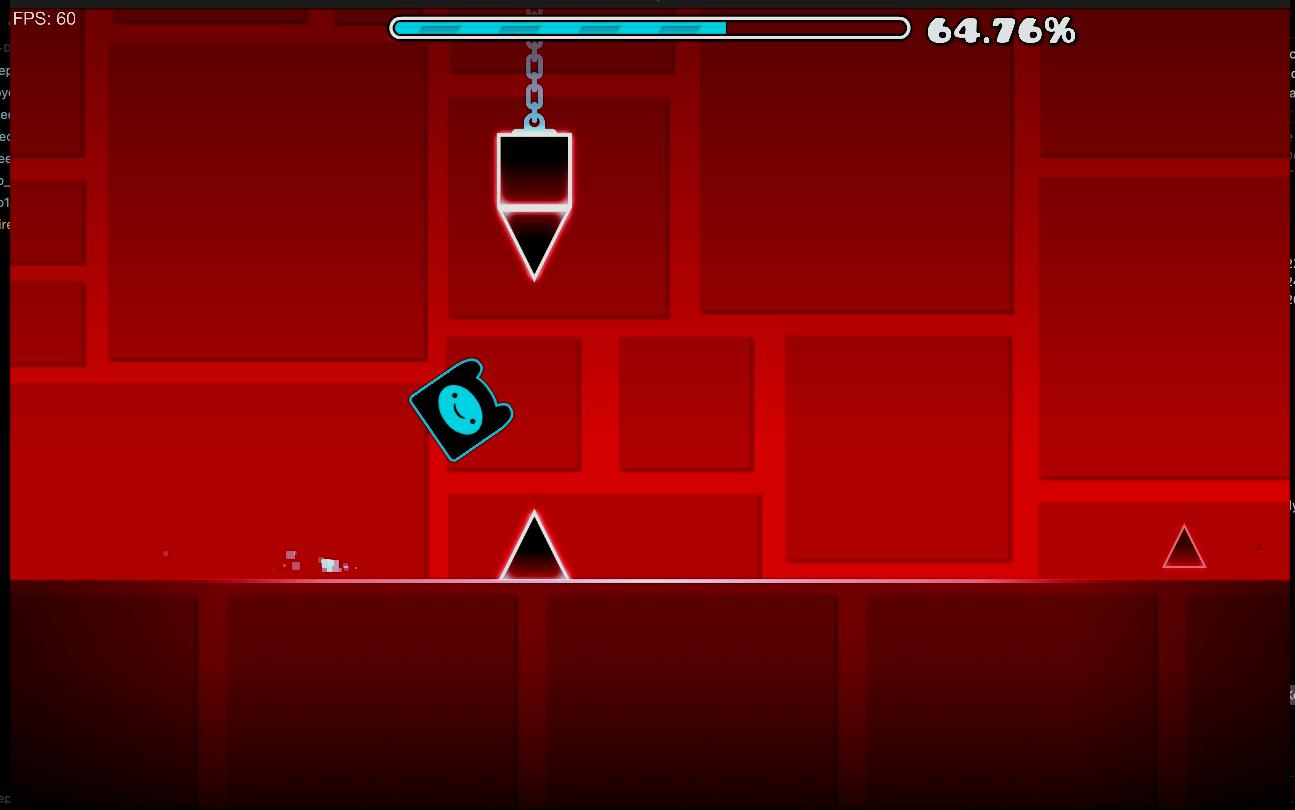player: (411, 358, 512, 461)
spike: (496, 130, 571, 279), (500, 510, 569, 578), (1162, 525, 1206, 568)
